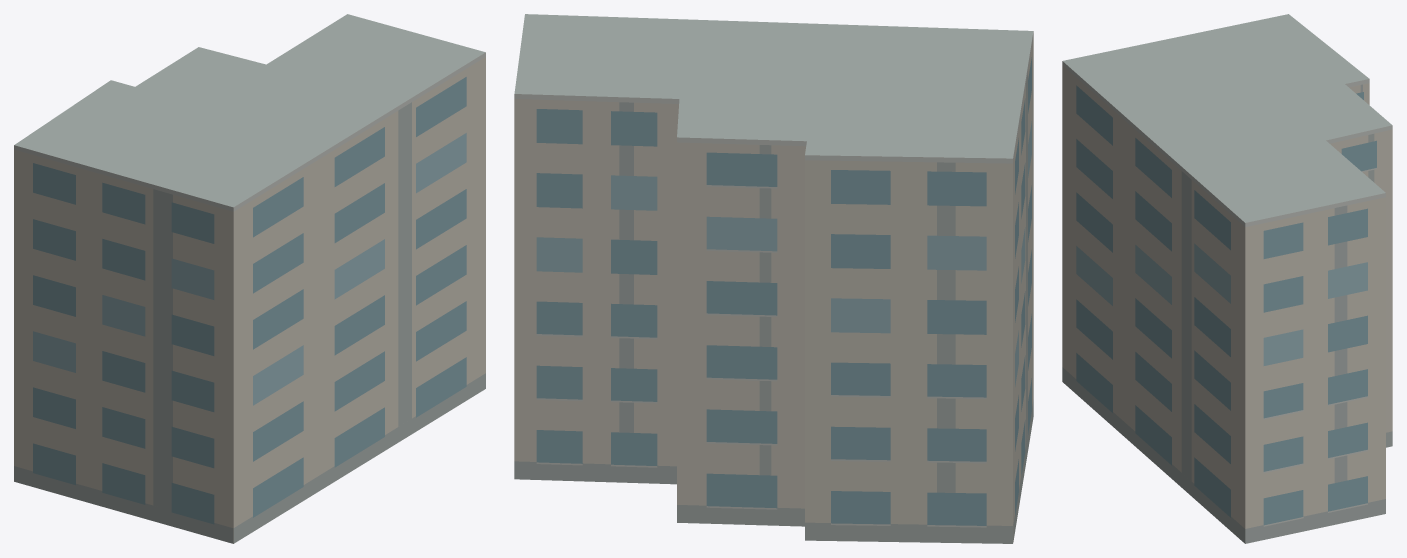
File: survey-upis-32814876.glb
3 views of the same model, side by side, from view 1: azimuth 30°, elevation 25°; view 2: azimuth 150°, elevation 25°; view 3: azimuth 270°, elevation 25° (orthographic). The views are drawn at different scales.
Visible parts, largest first — view 1: survey-upis-32814876.tmp; view 2: survey-upis-32814876.tmp; view 3: survey-upis-32814876.tmp.
Boxes of the visible parts, <box> form: survey-upis-32814876.tmp: <box>14,14,485,543</box>; survey-upis-32814876.tmp: <box>514,14,1033,543</box>; survey-upis-32814876.tmp: <box>1062,14,1392,543</box>.
Size of the model in its own units: 26.12 by 18.7 by 17.45.
